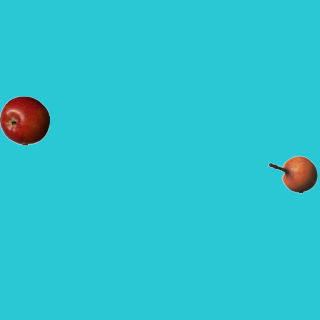Apple Braeburn: (0, 95, 49, 145)
Granadilla: (267, 149, 317, 199)
